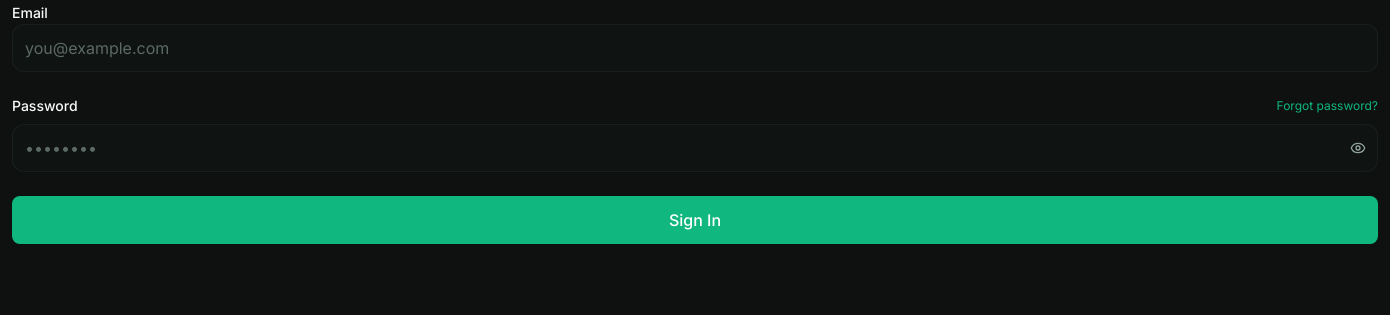
Scenario: LoginForm › shows validation error for invalid email
Type "not-an-email" into the field labelled "Email". click: (695, 48)
box: [12,24,1378,72]
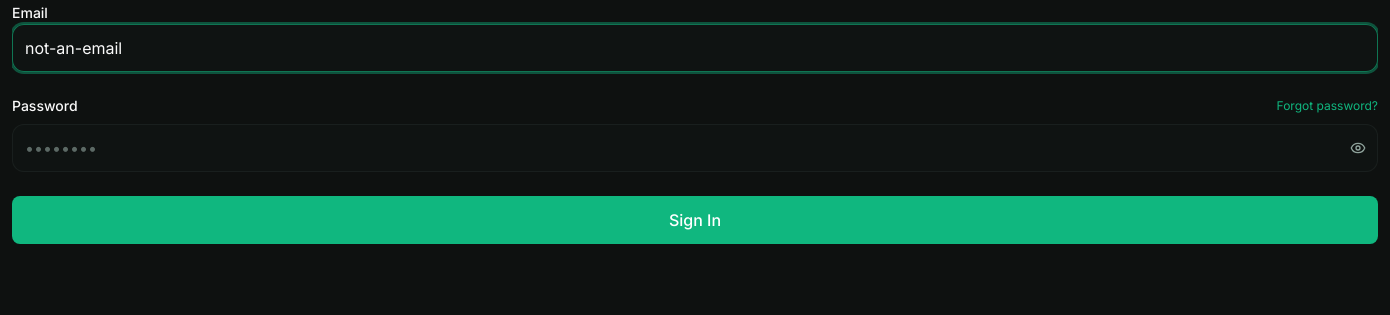
Click the button "Sign In". click: (695, 220)
box: [12,196,1378,244]
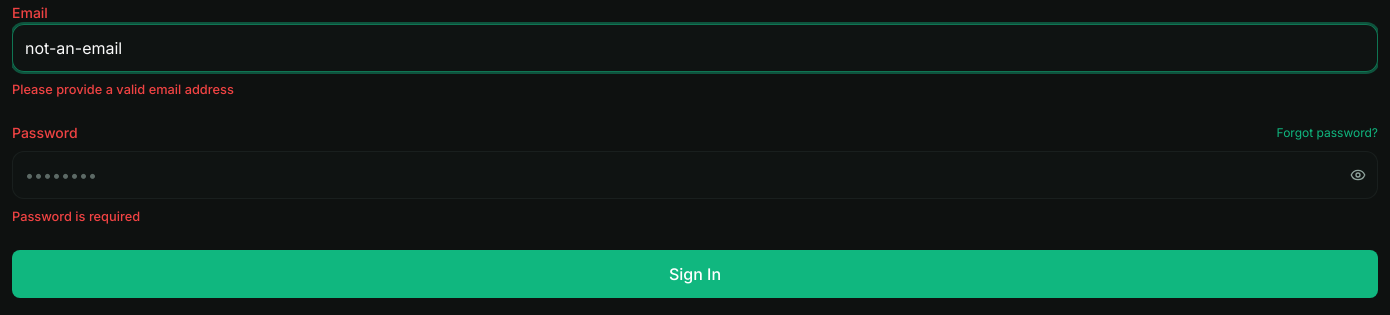
expect the text "Please provide a valid email address" is shown: met, box [12,82,234,97]
